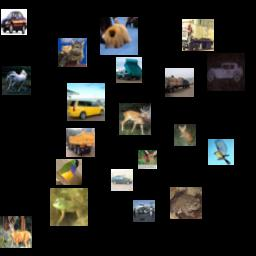airplane: (133, 200, 155, 222)
automobile: (67, 83, 105, 121), (207, 53, 245, 91), (1, 9, 27, 35), (111, 169, 133, 191)
bird: (56, 159, 82, 185), (208, 139, 234, 165)
cat: (58, 38, 87, 67), (174, 124, 196, 146)
deer: (119, 103, 151, 135), (0, 216, 32, 248), (138, 150, 157, 169)
dog: (100, 17, 138, 55)
frog: (50, 188, 88, 226), (170, 187, 202, 219)
truck: (182, 19, 214, 51), (165, 68, 194, 97), (66, 128, 95, 157), (116, 57, 142, 83)
